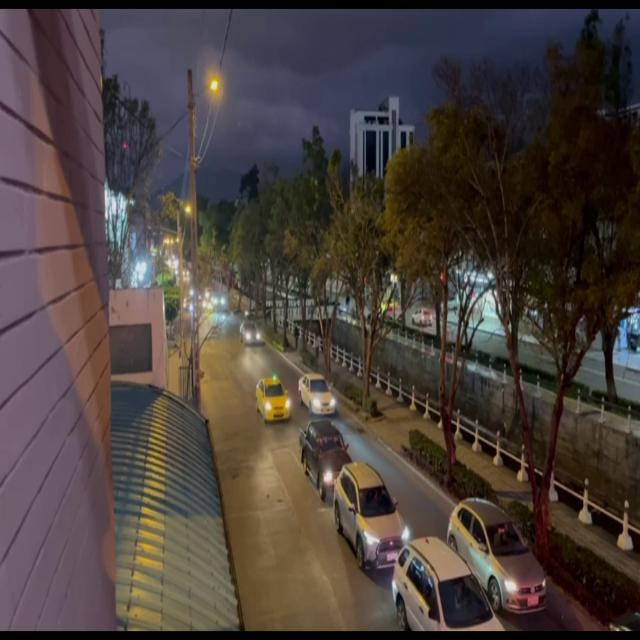CMT: (303, 428, 350, 498)
